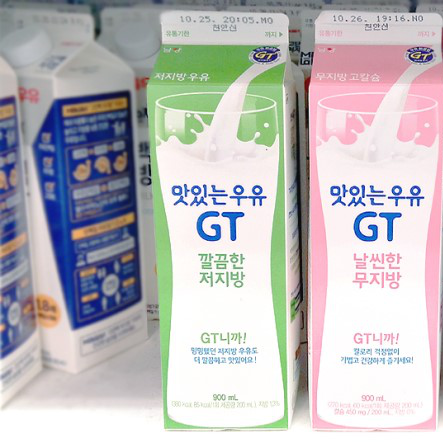milk: (146, 9, 301, 432), (0, 6, 148, 411), (307, 7, 439, 431)
